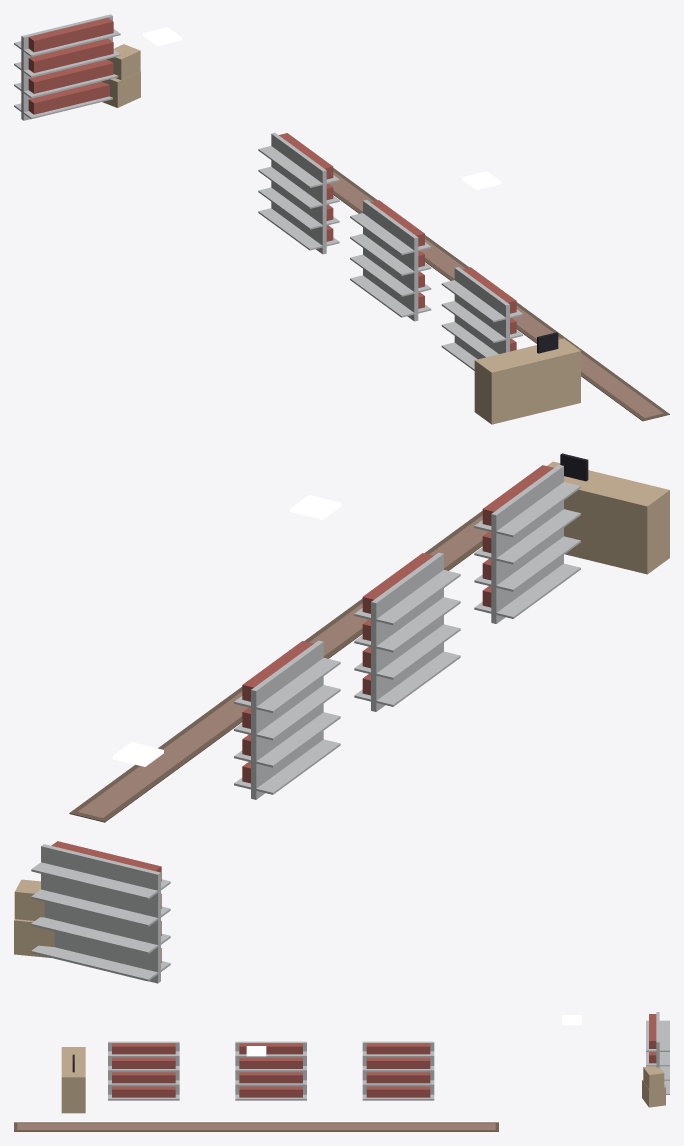
Rendered from fine-s0.glb.
3 renders of one model, top to bottom at view 1: azimuth 30°, elevation 25°; view 2: azimuth 150°, elevation 25°; view 3: azimuth 270°, elevation 25°, orthographic. The views are drawn at different scales.
Parts seen in each view (by area): view 1: shelving.000, shop-counter.000, shelf.000, shelf.001, shelf.002, soft-s0, cardboard-box.000; view 2: shelving.000, shelf.002, shelf.000, shelf.001, shop-counter.000, soft-s0, cardboard-box.000, ceiling-lamp.001, ceiling-lamp.000; view 3: soft-s0, shelf.000, shelf.002, shelf.001, shop-counter.000, shelving.000, cardboard-box.000, ceiling-lamp.000, ceiling-lamp.001.
Boxes of the visible parts, x1=… form: shelving.000: x1=14, y1=14, x2=120, y2=120; shop-counter.000: x1=474, y1=332, x2=580, y2=424; shelf.000: x1=258, y1=132, x2=339, y2=254; shelf.001: x1=350, y1=200, x2=431, y2=321; shelf.002: x1=441, y1=267, x2=522, y2=370; soft-s0: x1=329, y1=168, x2=669, y2=421; cardboard-box.000: x1=102, y1=44, x2=140, y2=107; shelving.000: x1=31, y1=841, x2=170, y2=983; shelf.002: x1=474, y1=464, x2=580, y2=623; shelf.000: x1=234, y1=640, x2=340, y2=799; shelf.001: x1=354, y1=552, x2=460, y2=711; shop-counter.000: x1=547, y1=453, x2=669, y2=574; soft-s0: x1=69, y1=511, x2=488, y2=822; cardboard-box.000: x1=14, y1=879, x2=54, y2=957; ceiling-lamp.001: x1=112, y1=742, x2=163, y2=766; ceiling-lamp.000: x1=290, y1=495, x2=341, y2=519; soft-s0: x1=14, y1=1122, x2=498, y2=1131; shelf.000: x1=362, y1=1041, x2=434, y2=1100; shelf.002: x1=108, y1=1041, x2=179, y2=1100; shelf.001: x1=235, y1=1041, x2=306, y2=1100; shop-counter.000: x1=61, y1=1047, x2=85, y2=1113; shelving.000: x1=646, y1=1012, x2=669, y2=1094; cardboard-box.000: x1=642, y1=1066, x2=665, y2=1107; ceiling-lamp.000: x1=246, y1=1046, x2=266, y2=1056; ceiling-lamp.001: x1=562, y1=1015, x2=581, y2=1025.
Size of the model in its own units: 3.7 by 2.14 by 16.49.
